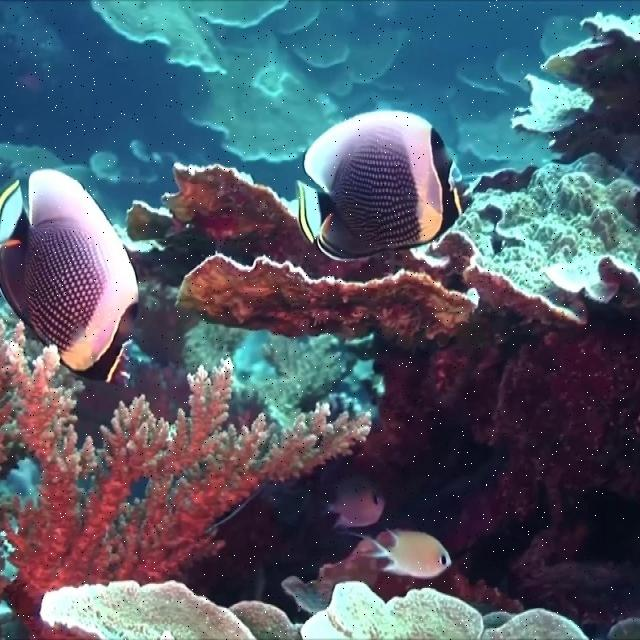fish: (1, 168, 139, 388), (296, 109, 476, 262), (351, 529, 452, 578), (327, 484, 386, 531)
reefs: (127, 162, 638, 625), (0, 322, 372, 639), (91, 0, 411, 163), (510, 13, 638, 187), (40, 580, 255, 638), (301, 580, 485, 639), (230, 601, 305, 639)
